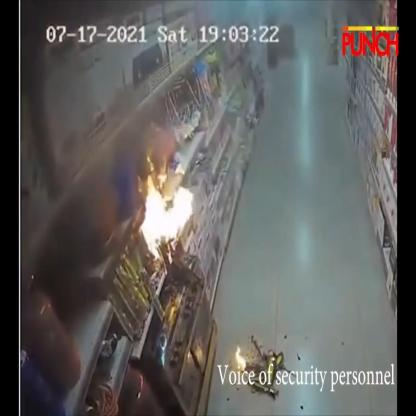fire: (139, 173, 193, 256), (236, 345, 245, 368)
